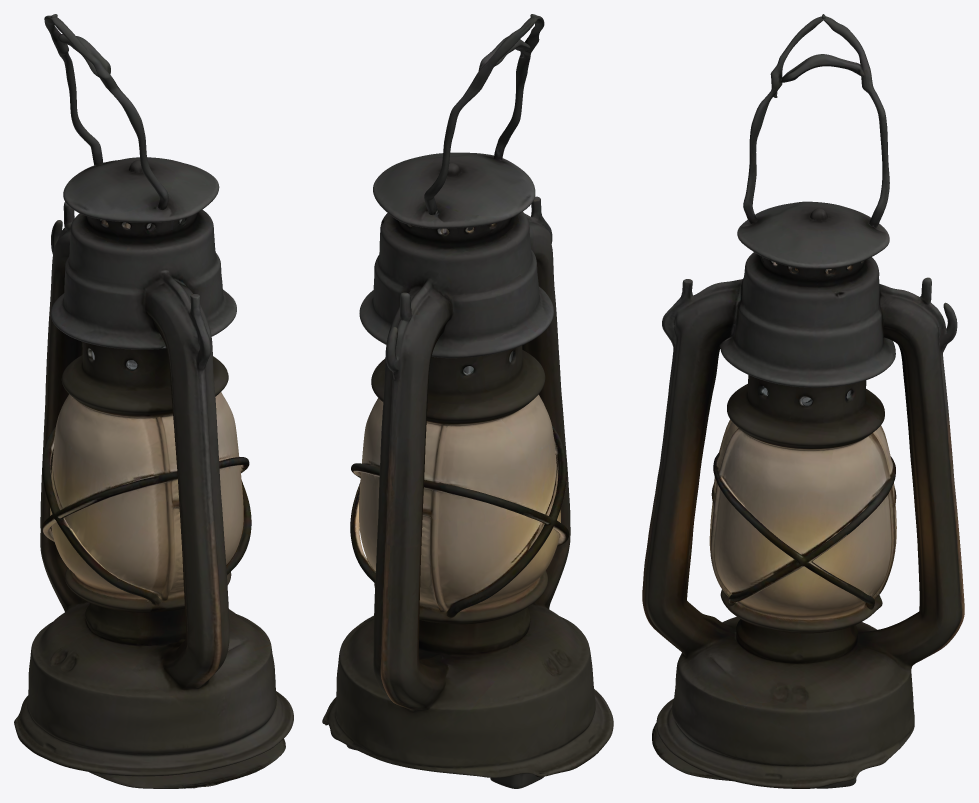
The model's file is ruijin-lantern.glb.
3 renders of one model, left to right at view 1: azimuth 30°, elevation 25°; view 2: azimuth 150°, elevation 25°; view 3: azimuth 270°, elevation 25°, orthographic. The views are drawn at different scales.
Parts seen in each view (by area): view 1: tripo_node_3ca8ff9d-db0c-4a00-abd7-53662c9b2476; view 2: tripo_node_3ca8ff9d-db0c-4a00-abd7-53662c9b2476; view 3: tripo_node_3ca8ff9d-db0c-4a00-abd7-53662c9b2476.
Boxes of the visible parts, left/top/right/bottom form: tripo_node_3ca8ff9d-db0c-4a00-abd7-53662c9b2476: left=14, top=14, right=293, bottom=788; tripo_node_3ca8ff9d-db0c-4a00-abd7-53662c9b2476: left=322, top=14, right=613, bottom=788; tripo_node_3ca8ff9d-db0c-4a00-abd7-53662c9b2476: left=642, top=14, right=964, bottom=788.
Bounding box in the file's own units: 0.3405 × 0.9782 × 0.4113.
Materials: 1 (1 with a texture image).
